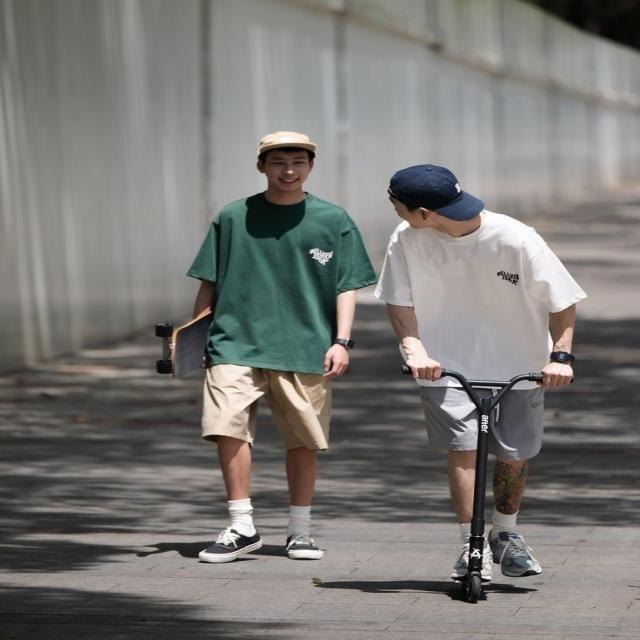person: (372, 163, 587, 579), (178, 130, 378, 563)
